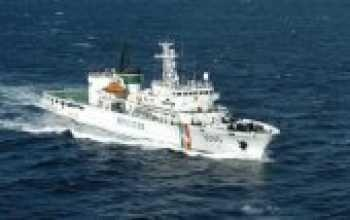warship: (42, 39, 284, 161)
